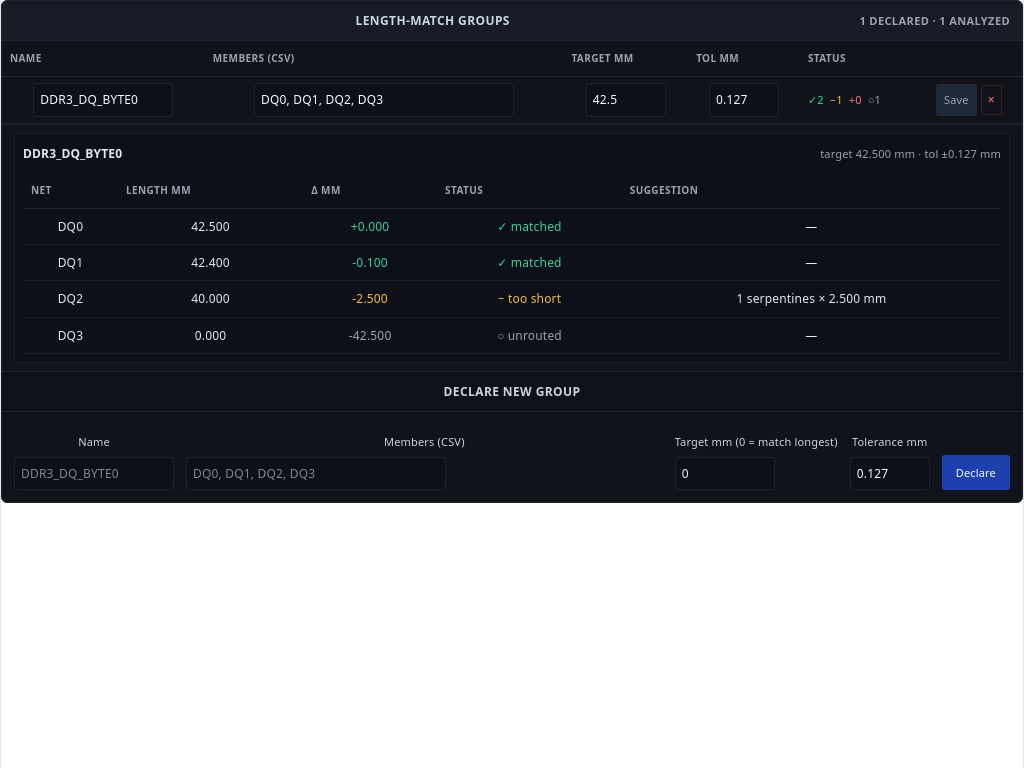
Scenario: LengthMatchPanel (M3-T-04) › Server error on Save is surfaced and the row stays dirty
Replace the text in the number field with test id "length-match-tolerance" with "0.25" at (744, 100), box left=709, top=83, right=779, bottom=117
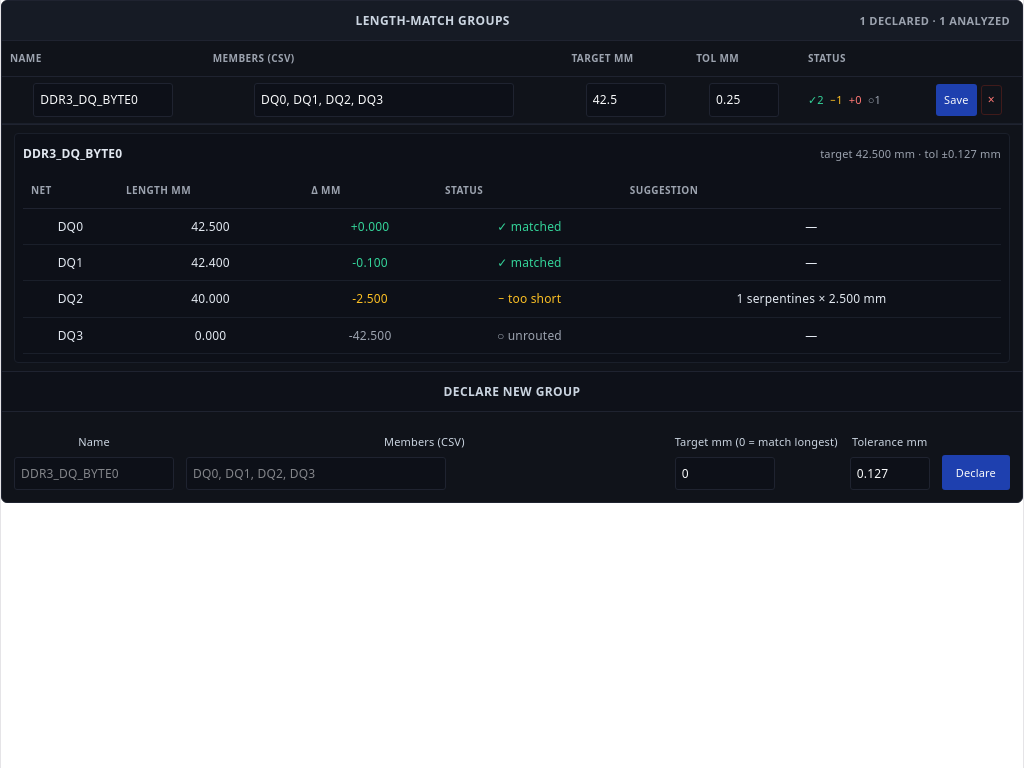
Click the button with test id "length-match-save".
click(956, 100)  # box left=936, top=84, right=977, bottom=116
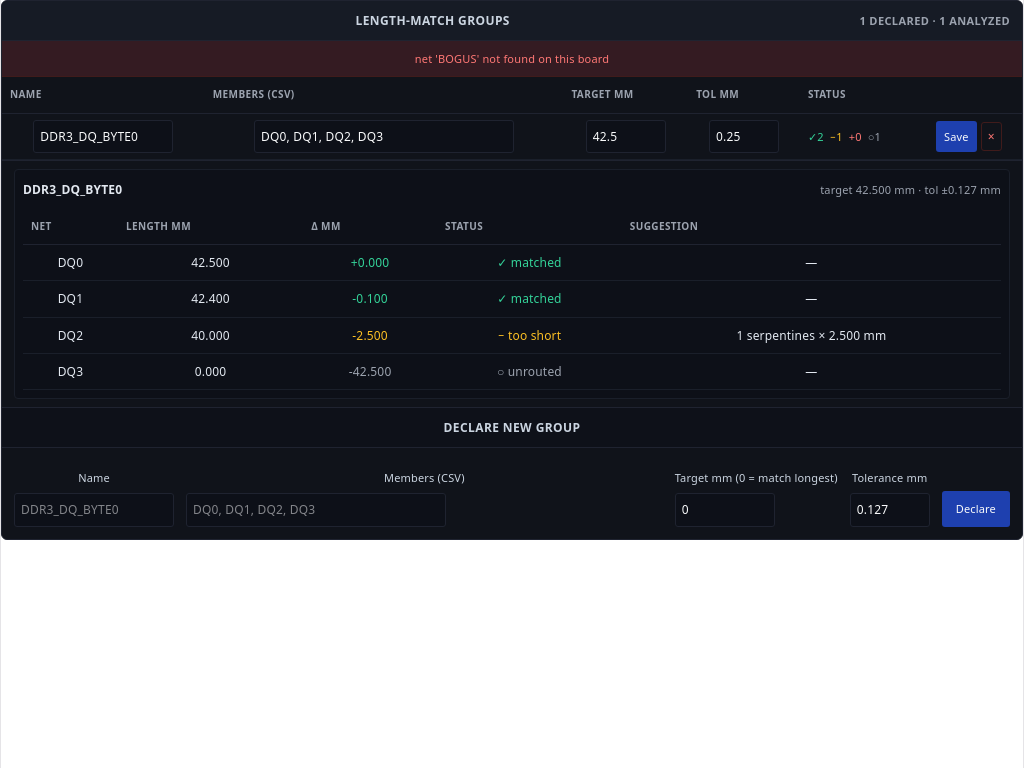
Expected: the text "net 'BOGUS' not found on this board" is shown, left=2, top=41, right=1022, bottom=77
Expected: the text with test id "length-match-error" shows "BOGUS", left=415, top=51, right=609, bottom=66
